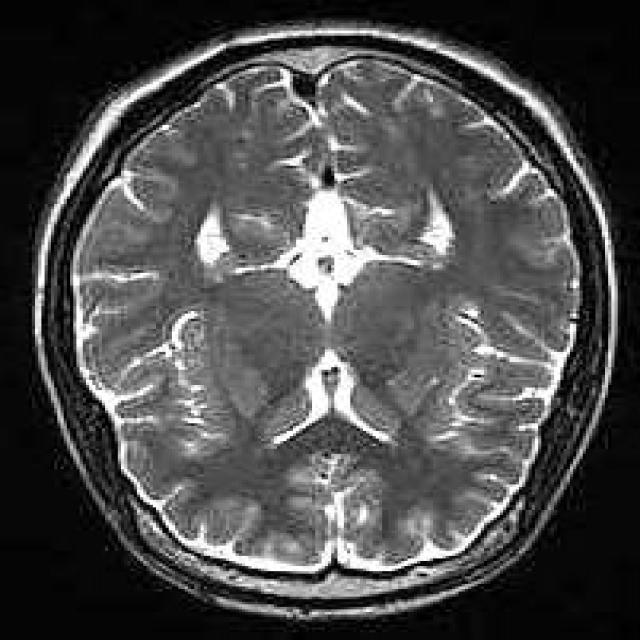notumor: (35, 20, 621, 620)
